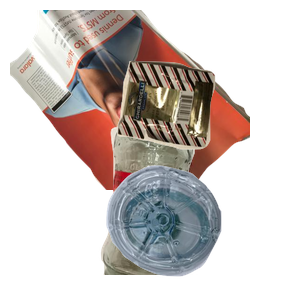glass: (98, 120, 286, 300)
paper: (10, 10, 250, 190)
plastic: (104, 163, 300, 300)
trash: (115, 58, 300, 200)
